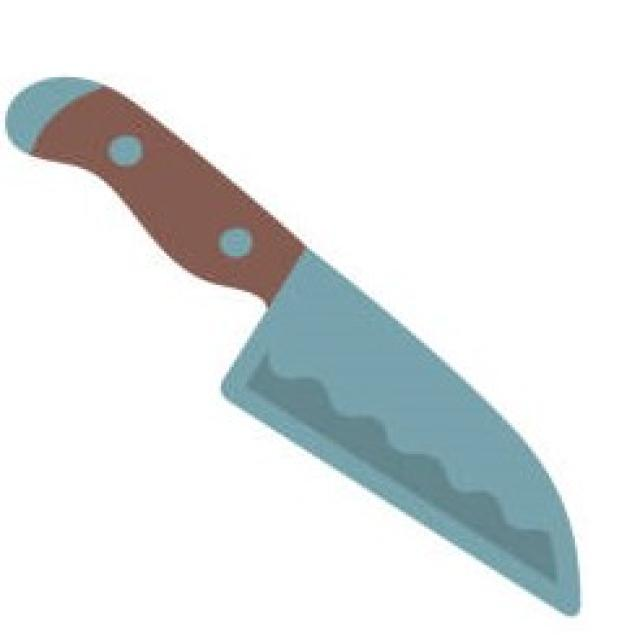knife: (6, 65, 597, 624)
